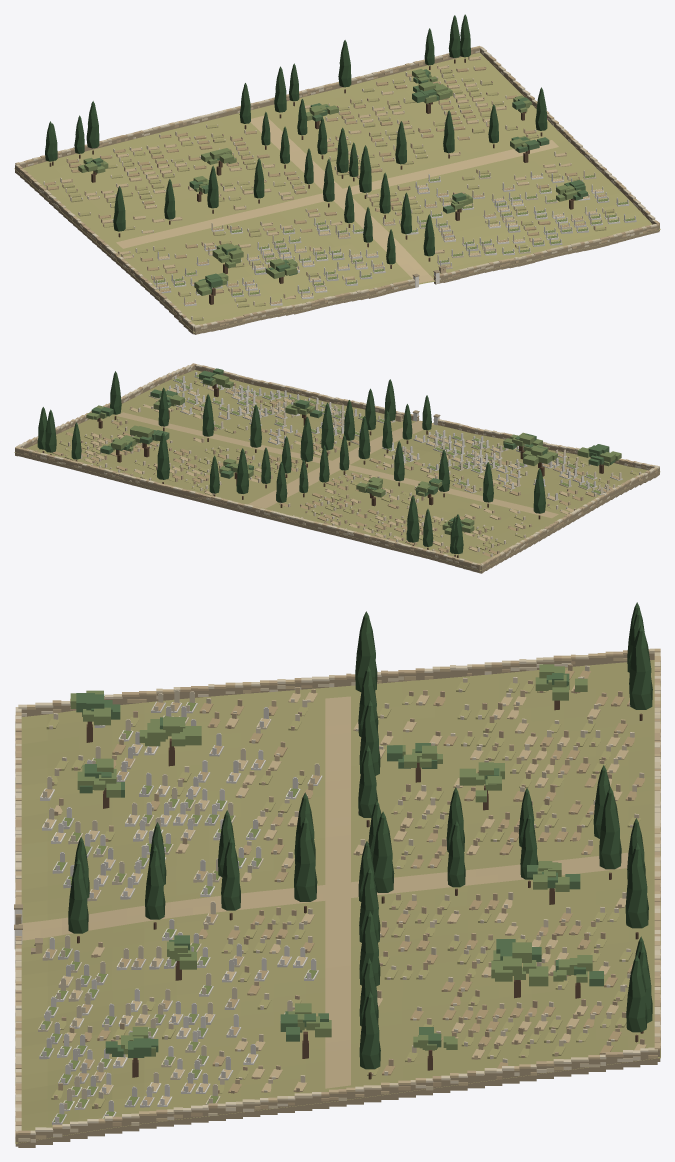
Rendered from merkez-mezarligi.glb.
3 views of the same model, one above another, from view 1: azimuth 30°, elevation 25°; view 2: azimuth 150°, elevation 25°; view 3: azimuth 270°, elevation 25° (orthographic). The views are drawn at different scales.
Visible parts, largest first — view 1: kuru_ot, servi, toprak, tas_koyu, tas4, toprak2, zeytin_yaprak, tas2, tas3, tas1, mermer, zeytin (+4 smaller); view 2: kuru_ot, servi, tas_koyu, toprak, tas4, zeytin_yaprak, toprak2, tas2, tas3, tas1, zeytin, mermer (+4 smaller); view 3: kuru_ot, servi, toprak, tas4, zeytin_yaprak, tas_koyu, toprak2, tas2, tas3, tas1, mermer, mermer2 (+4 smaller).
Boxes of the visible parts, <box> form: kuru_ot: <box>14,52,660,332</box>; servi: <box>45,14,547,264</box>; toprak: <box>61,56,602,299</box>; tas_koyu: <box>15,48,659,334</box>; tas4: <box>28,48,657,328</box>; toprak2: <box>45,66,606,304</box>; zeytin_yaprak: <box>78,69,581,295</box>; tas2: <box>15,46,651,326</box>; tas3: <box>17,47,659,328</box>; tas1: <box>15,46,646,329</box>; mermer: <box>153,174,635,306</box>; zeytin: <box>86,69,587,292</box>; kuru_ot: <box>14,370,660,570</box>; servi: <box>37,371,545,554</box>; tas_koyu: <box>15,366,659,573</box>; toprak: <box>30,386,574,551</box>; tas4: <box>18,364,659,568</box>; zeytin_yaprak: <box>86,374,621,534</box>; toprak2: <box>44,387,619,556</box>; tas2: <box>15,367,657,566</box>; tas3: <box>21,363,657,567</box>; tas1: <box>15,366,649,566</box>; zeytin: <box>91,368,615,528</box>; mermer: <box>169,372,622,494</box>; kuru_ot: <box>15,660,660,1143</box>; servi: <box>68,602,652,1069</box>; toprak: <box>18,685,646,1104</box>; tas4: <box>15,656,660,1142</box>; zeytin_yaprak: <box>70,664,592,1056</box>; tas_koyu: <box>14,653,660,1147</box>; toprak2: <box>41,670,644,1105</box>; tas2: <box>15,648,660,1139</box>; tas3: <box>15,649,660,1138</box>; tas1: <box>15,648,660,1141</box>; mermer: <box>41,702,322,1122</box>; mermer2: <box>39,701,297,1125</box>.
Bounding box in the file's own units: 90 × 18.71 × 60.12.
